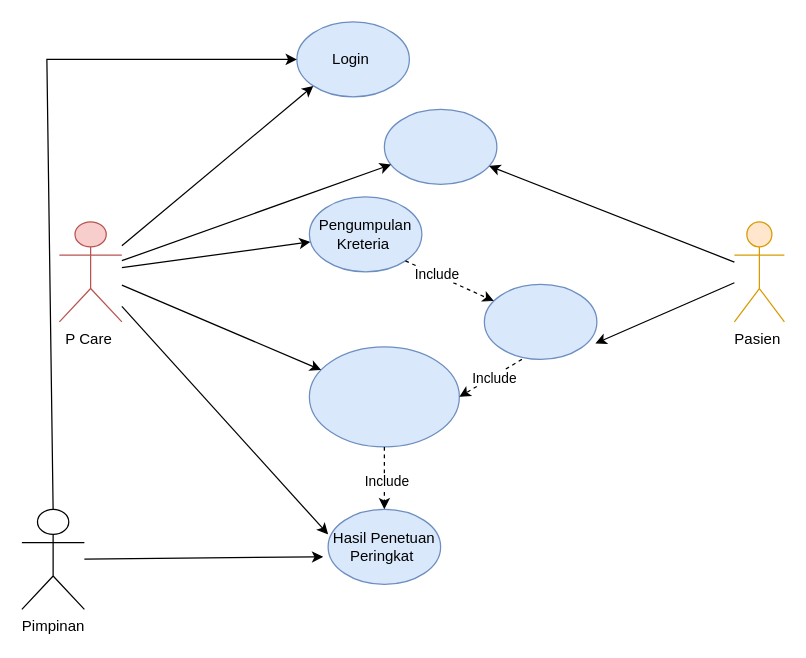
This 806x658 diagram has some shape labels left out. Each missing label, with the box of its shape:
Mengisi Survei: (483, 283, 597, 359)
Pengisian Biodata Peserta: (383, 108, 497, 184)
Perhitungan Skor Menggunakan SAW: (308, 346, 459, 447)
